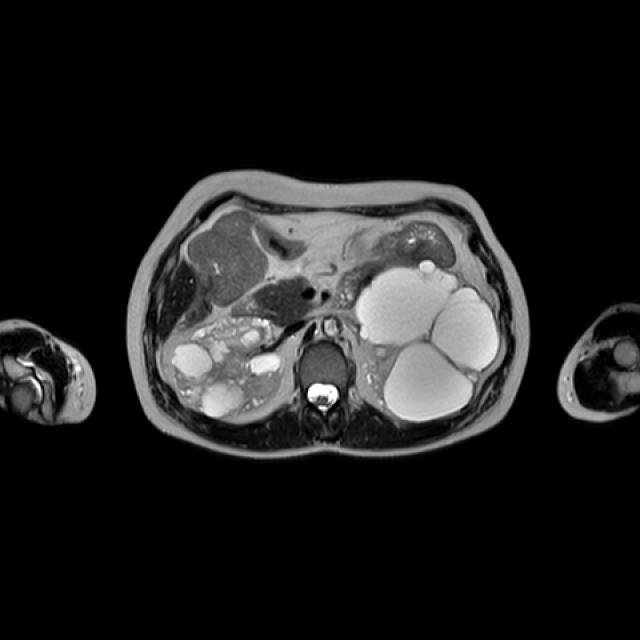sag: (173, 317, 282, 417)
sol: (356, 258, 502, 420)
